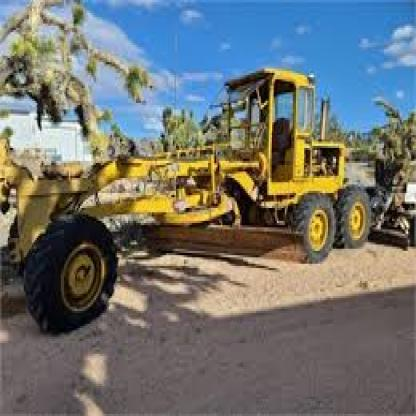bull_dozer/loader/grader: (2, 58, 382, 339)
